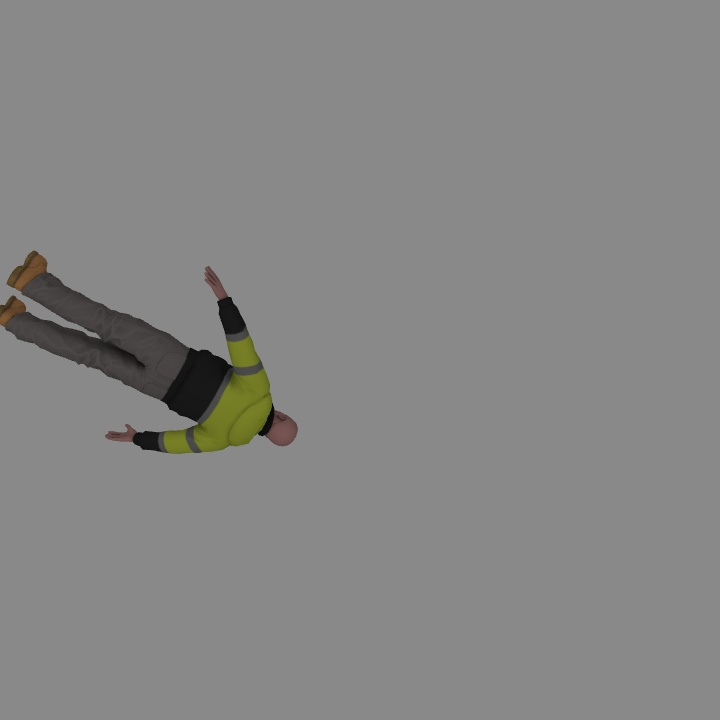victim: (1, 253, 299, 452)
